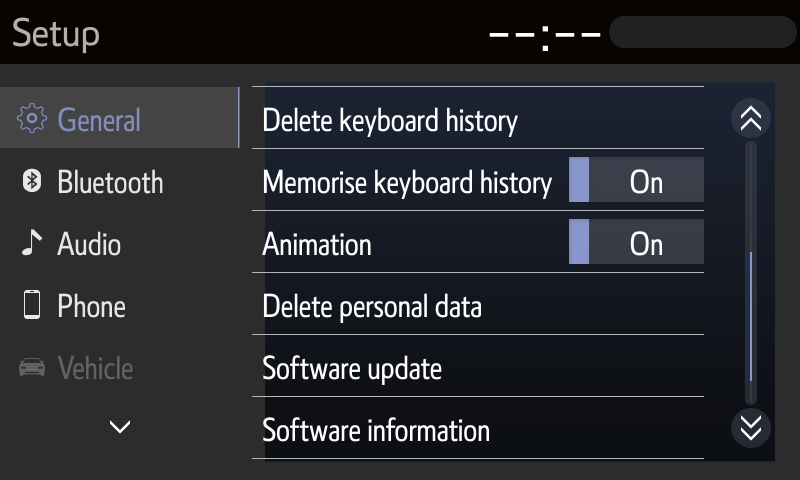touchPart: (250, 81, 711, 153), (247, 269, 708, 340), (246, 330, 706, 401), (249, 144, 708, 215), (249, 207, 710, 277), (243, 393, 707, 459), (6, 163, 173, 209), (5, 223, 150, 266), (4, 284, 137, 324), (730, 410, 772, 451), (732, 98, 772, 136)
untouchPart: (2, 85, 242, 150), (477, 9, 798, 54), (9, 350, 158, 386), (12, 11, 104, 54)
